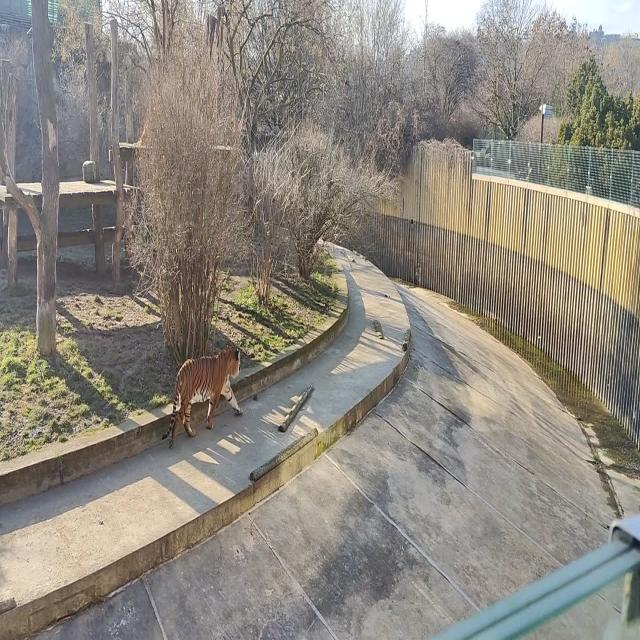tiger: (162, 343, 244, 450)
